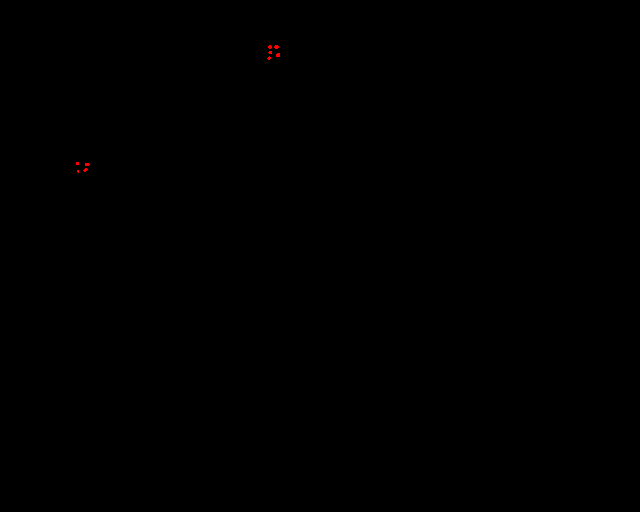Target: (274, 45, 279, 49), (83, 168, 88, 172), (268, 45, 272, 49), (276, 53, 280, 57), (267, 56, 271, 60), (85, 163, 90, 166), (268, 51, 272, 54), (76, 162, 79, 165), (77, 170, 79, 173)
